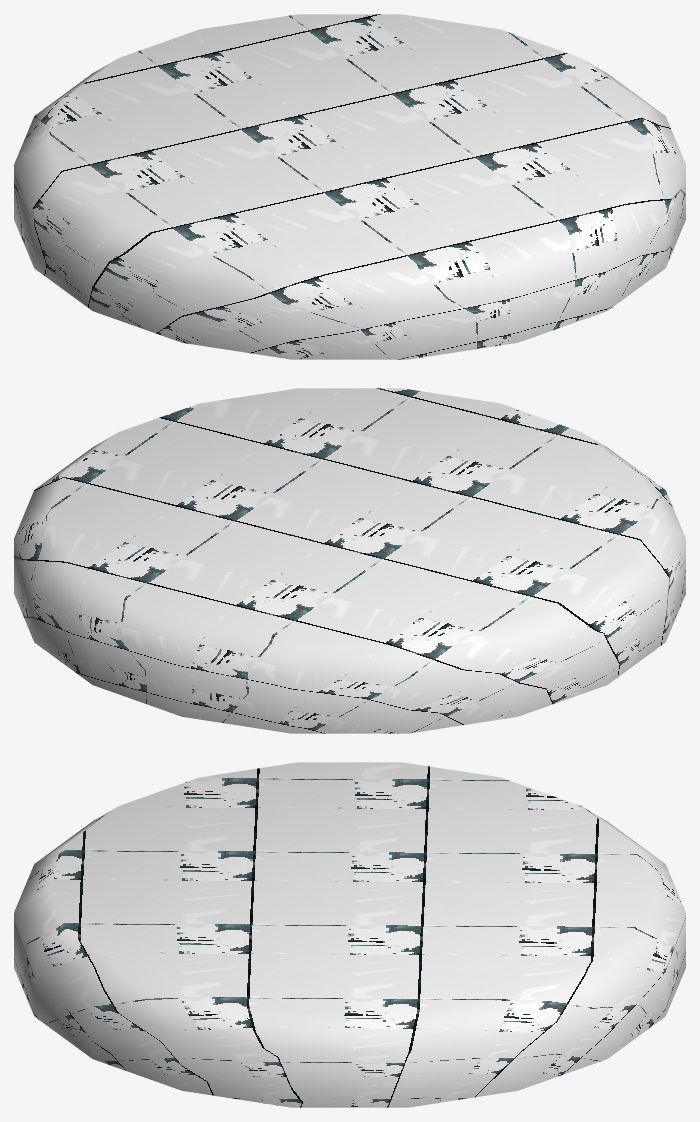
Rendered from Clock.FBX.
3 views of the same model, one above another, from view 1: azimuth 30°, elevation 25°; view 2: azimuth 150°, elevation 25°; view 3: azimuth 270°, elevation 25° (orthographic).
Parts seen in each view (by area): view 1: Clock; view 2: Clock; view 3: Clock.
Part boxes in pixels (x1,y1,x2,y2): Clock: [14, 14, 685, 359]; Clock: [14, 388, 685, 733]; Clock: [14, 762, 685, 1107].
Bounding box in the file's own units: 0.6867 × 0.6973 × 0.0918.
1 material, 1 textured.
